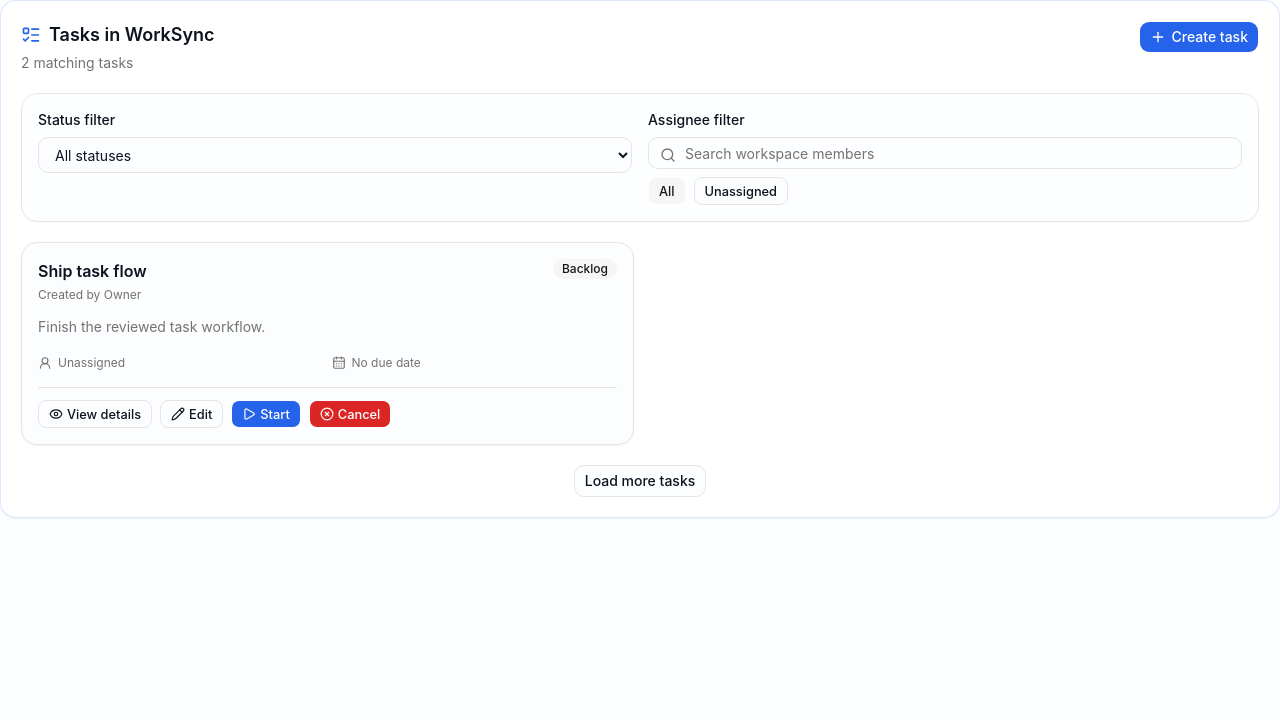
TaskSection › offers reconciliation when a later page only repeats loaded tasks
Step 1. Click the button "Load more tasks" → (640, 481), box 574,465 -> 706,497
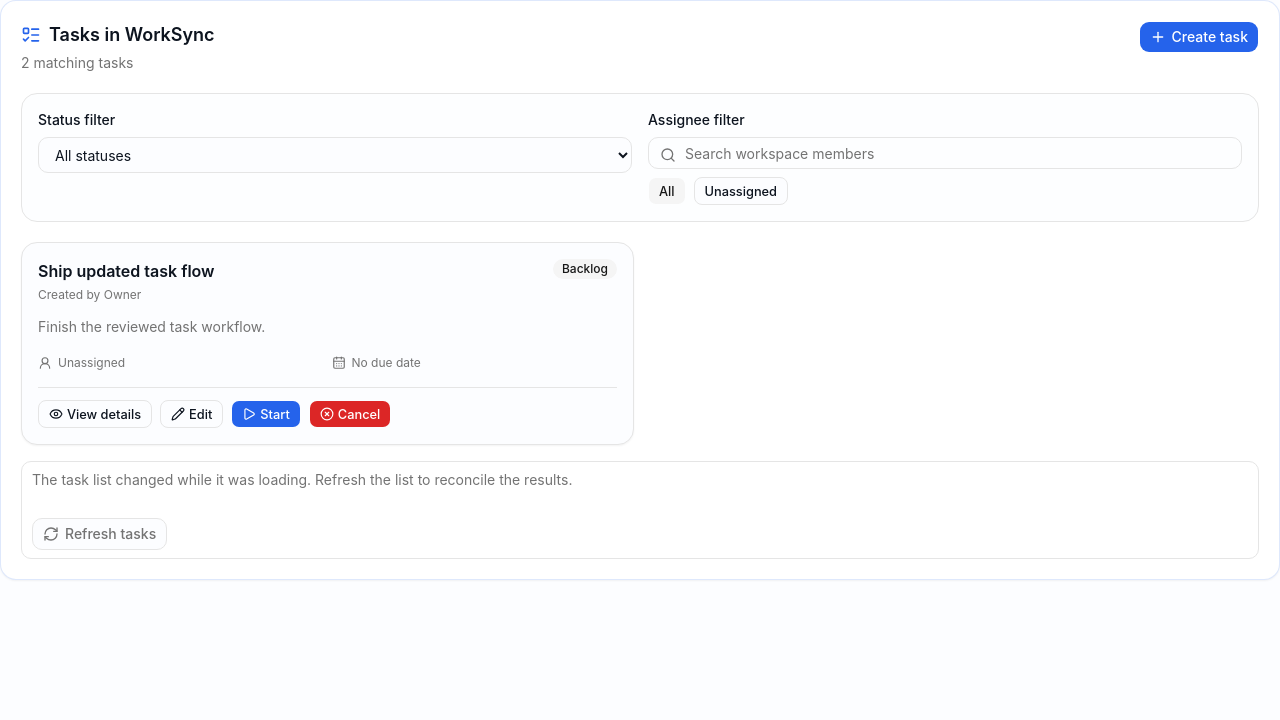
Result: the text "task list changed while it was loading" is shown at 32,471 -> 572,488
Result: the heading "Ship updated task flow" is shown at 38,259 -> 214,283
Result: the heading "Ship task flow" is gone
